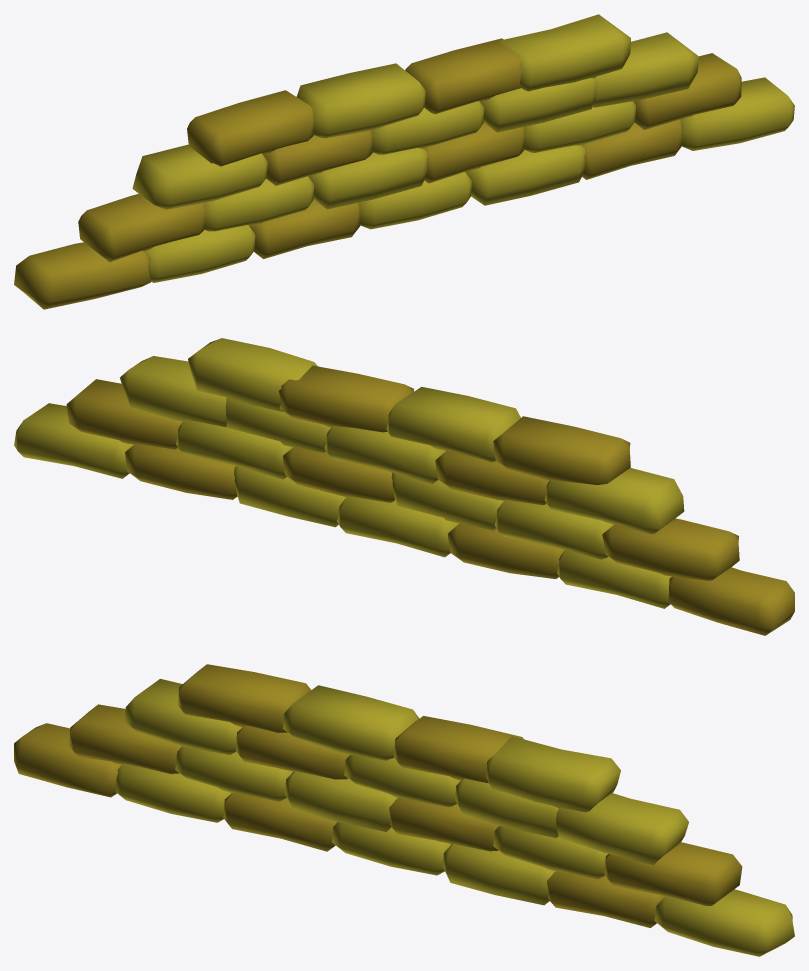
The model's file is Barrier_007.glb.
The picture shows the model from 3 angles, top to bottom: view 1: azimuth 30°, elevation 25°; view 2: azimuth 150°, elevation 25°; view 3: azimuth 330°, elevation 25°; orthographic projection.
Parts seen in each view (by area): view 1: Barrier_007; view 2: Barrier_007; view 3: Barrier_007.
Boxes of the visible parts, x1,y1,x2,y2 form: Barrier_007: (14,14,794,309); Barrier_007: (14,338,794,635); Barrier_007: (14,664,794,956).
Size of the model in its own units: 5.86 by 1.07 by 0.4849.
Materials: 1 (1 with a texture image).
